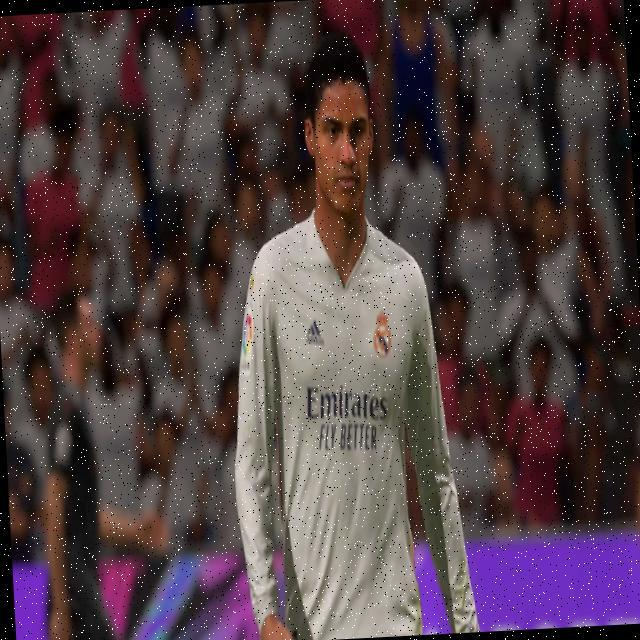Adidas: (305, 319, 324, 348)
Emirates: (307, 381, 389, 424)
